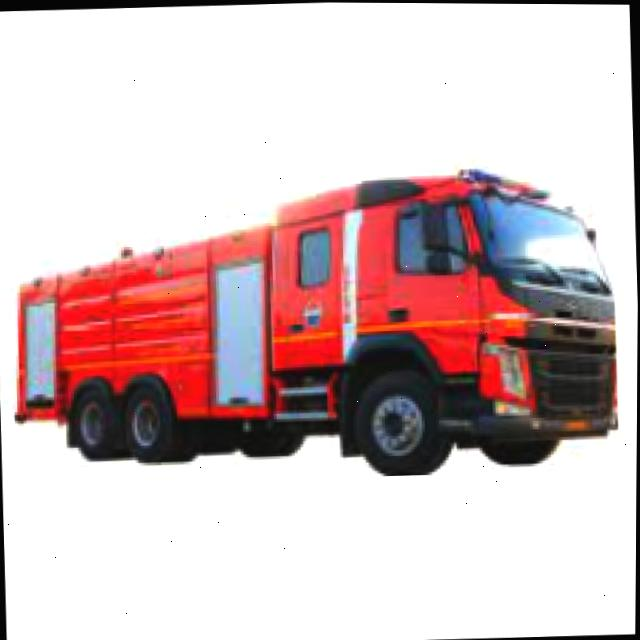Fire Truck: (4, 152, 620, 490)
